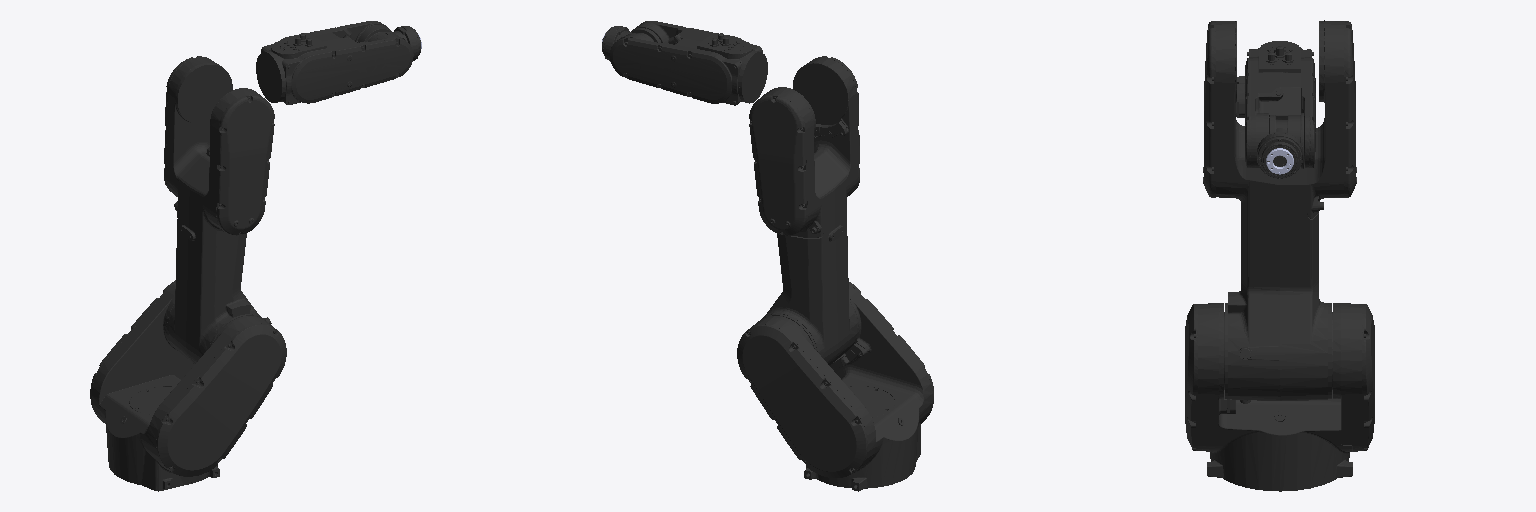
URDF robot description (IRB_1300_1150_URDF):
<?xml version="1.0" encoding="utf-8"?>
<!-- This URDF was automatically created by SolidWorks to URDF Exporter! Originally created by Stephen Brawner (brawner@gmail.com) 
     Commit Version: 1.6.0-4-g7f85cfe  Build Version: 1.6.7995.38578
     For more information, please see http://wiki.ros.org/sw_urdf_exporter -->
<robot
  name="IRB_1300_1150_URDF">
  <link
    name="Base_link">
    <inertial>
      <origin
        xyz="-0.0220103019410186 -0.000638393440676694 0.127601680674722"
        rpy="0 0 0" />
      <mass
        value="13.1816717182696" />
      <inertia
        ixx="0.111542050634734"
        ixy="-0.000419579506372939"
        ixz="-0.00293208386013336"
        iyy="0.128331849305678"
        iyz="-3.06924058365584E-05"
        izz="0.103993589315671" />
    </inertial>
    <visual>
      <origin
        xyz="0 0 0"
        rpy="0 0 0" />
      <geometry>
        <mesh
          filename="../meshes/Base_link.STL" />
      </geometry>
      <material
        name="">
        <color
          rgba="0.250980392156863 0.250980392156863 0.250980392156863 1" />
      </material>
    </visual>
    <collision>
      <origin
        xyz="0 0 0"
        rpy="0 0 0" />
      <geometry>
        <mesh
          filename="../meshes/Base_link.STL" />
      </geometry>
    </collision>
  </link>
  <link
    name="Link_1">
    <inertial>
      <origin
        xyz="0.0379140465011304 -0.00077346865336325 0.145882231183446"
        rpy="0 0 0" />
      <mass
        value="16.33253311" />
      <inertia
        ixx="0.174362024179828"
        ixy="0.0183368936461501"
        ixz="-0.0552544146231136"
        iyy="0.208069036216912"
        iyz="0.0360494323577949"
        izz="0.165549084912184" />
    </inertial>
    <visual>
      <origin
        xyz="0 0 0"
        rpy="0 0 0" />
      <geometry>
        <mesh
          filename="../meshes/Link_1.STL" />
      </geometry>
      <material
        name="">
        <color
          rgba="0.250980392156863 0.250980392156863 0.250980392156863 1" />
      </material>
    </visual>
    <collision>
      <origin
        xyz="0 0 0"
        rpy="0 0 0" />
      <geometry>
        <mesh
          filename="../meshes/Link_1.STL" />
      </geometry>
    </collision>
  </link>
  <joint
    name="Joint_1"
    type="revolute">
    <origin
      xyz="0 0 0.254"
      rpy="0 0 0" />
    <parent
      link="Base_link" />
    <child
      link="Link_1" />
    <axis
      xyz="0 0 1" />
    <limit
      lower="-3.1416"
      upper="3.1416"
      effort="1"
      velocity="1" />
  </joint>
  <link
    name="Link_2">
    <inertial>
      <origin
        xyz="-0.010943302471405 -0.00082345273693149 0.244958725841503"
        rpy="0 0 0" />
      <mass
        value="15.4405289883218" />
      <inertia
        ixx="0.454189406801351"
        ixy="0.000833807793902255"
        ixz="0.00519621446900202"
        iyy="0.446840533249867"
        iyz="0.0465559640262711"
        izz="0.0564311207928579" />
    </inertial>
    <visual>
      <origin
        xyz="0 0 0"
        rpy="0 0 0" />
      <geometry>
        <mesh
          filename="../meshes/Link_2.STL" />
      </geometry>
      <material
        name="">
        <color
          rgba="0.250980392156863 0.250980392156863 0.250980392156863 1" />
      </material>
    </visual>
    <collision>
      <origin
        xyz="0 0 0"
        rpy="0 0 0" />
      <geometry>
        <mesh
          filename="../meshes/Link_2.STL" />
      </geometry>
    </collision>
  </link>
  <joint
    name="Joint_2"
    type="revolute">
    <origin
      xyz="0.15 0 0.29"
      rpy="0 0 0" />
    <parent
      link="Link_1" />
    <child
      link="Link_2" />
    <axis
      xyz="0 1 0" />
    <limit
      lower="-1.6581"
      upper="2.7053"
      effort="1"
      velocity="1" />
  </joint>
  <link
    name="Link_3">
    <inertial>
      <origin
        xyz="0.00583162917002925 -0.00131958947797207 0.0114105778753493"
        rpy="0 0 0" />
      <mass
        value="4.41745625966426" />
      <inertia
        ixx="0.0147798858809225"
        ixy="-5.10577958981012E-05"
        ixz="-0.00147588390166233"
        iyy="0.0217907531368722"
        iyz="-0.000100030526636097"
        izz="0.0184719400306651" />
    </inertial>
    <visual>
      <origin
        xyz="0 0 0"
        rpy="0 0 0" />
      <geometry>
        <mesh
          filename="../meshes/Link_3.STL" />
      </geometry>
      <material
        name="">
        <color
          rgba="0.250980392156863 0.250980392156863 0.250980392156863 1" />
      </material>
    </visual>
    <collision>
      <origin
        xyz="0 0 0"
        rpy="0 0 0" />
      <geometry>
        <mesh
          filename="../meshes/Link_3.STL" />
      </geometry>
    </collision>
  </link>
  <joint
    name="Joint_3"
    type="revolute">
    <origin
      xyz="0 0 0.575"
      rpy="0 0 0" />
    <parent
      link="Link_2" />
    <child
      link="Link_3" />
    <axis
      xyz="0 1 0" />
    <limit
      lower="-3.6652"
      upper="1.1345"
      effort="1"
      velocity="1" />
  </joint>
  <link
    name="Link_4">
    <inertial>
      <origin
        xyz="0.140260635549701 -0.00136562554480562 0.00129646298090691"
        rpy="0 0 0" />
      <mass
        value="3.69431403174966" />
      <inertia
        ixx="0.00541702840267699"
        ixy="0.00158652277695888"
        ixz="8.51527882160909E-05"
        iyy="0.0298154185837735"
        iyz="-2.11291152168427E-05"
        izz="0.0280131785677657" />
    </inertial>
    <visual>
      <origin
        xyz="0 0 0"
        rpy="0 0 0" />
      <geometry>
        <mesh
          filename="../meshes/Link_4.STL" />
      </geometry>
      <material
        name="">
        <color
          rgba="0.250980392156863 0.250980392156863 0.250980392156863 1" />
      </material>
    </visual>
    <collision>
      <origin
        xyz="0 0 0"
        rpy="0 0 0" />
      <geometry>
        <mesh
          filename="../meshes/Link_4.STL" />
      </geometry>
    </collision>
  </link>
  <joint
    name="Joint_4"
    type="revolute">
    <origin
      xyz="0.128 0 0.04"
      rpy="0 0 0" />
    <parent
      link="Link_3" />
    <child
      link="Link_4" />
    <axis
      xyz="1 0 0" />
    <limit
      lower="-4.0143"
      upper="4.0143"
      effort="1"
      velocity="1" />
  </joint>
  <link
    name="Link_5">
    <inertial>
      <origin
        xyz="0.0204854339056125 0.00887681892988258 5.81633089893341E-05"
        rpy="0 0 0" />
      <mass
        value="0.585190237279786" />
      <inertia
        ixx="0.000493350438723821"
        ixy="6.25796891964945E-05"
        ixz="1.86941748612874E-06"
        iyy="0.000782731233621633"
        iyz="8.9714462780288E-08"
        izz="0.00072596758094608" />
    </inertial>
    <visual>
      <origin
        xyz="0 0 0"
        rpy="0 0 0" />
      <geometry>
        <mesh
          filename="../meshes/Link_5.STL" />
      </geometry>
      <material
        name="">
        <color
          rgba="0.250980392156863 0.250980392156863 0.250980392156863 1" />
      </material>
    </visual>
    <collision>
      <origin
        xyz="0 0 0"
        rpy="0 0 0" />
      <geometry>
        <mesh
          filename="../meshes/Link_5.STL" />
      </geometry>
    </collision>
  </link>
  <joint
    name="Joint_5"
    type="revolute">
    <origin
      xyz="0.297 0 0"
      rpy="0 0 0" />
    <parent
      link="Link_4" />
    <child
      link="Link_5" />
    <axis
      xyz="0 1 0" />
    <limit
      lower="-2.2689"
      upper="2.2689"
      effort="1"
      velocity="1" />
  </joint>
  <link
    name="Link_6">
    <inertial>
      <origin
        xyz="-7.71902908147659E-05 0.000141388062541212 -0.00303976538423312"
        rpy="0 0 0" />
      <mass
        value="0.00790032012561492" />
      <inertia
        ixx="1.51446478201562E-06"
        ixy="1.16947500504224E-08"
        ixz="2.42500450594497E-11"
        iyy="1.59968258334013E-06"
        iyz="-4.44183698628822E-11"
        izz="3.06775217763411E-06" />
    </inertial>
    <visual>
      <origin
        xyz="0 0 0"
        rpy="0 0 0" />
      <geometry>
        <mesh
          filename="../meshes/Link_6.STL" />
      </geometry>
      <material
        name="">
        <color
          rgba="0.792156862745098 0.819607843137255 0.933333333333333 1" />
      </material>
    </visual>
    <collision>
      <origin
        xyz="0 0 0"
        rpy="0 0 0" />
      <geometry>
        <mesh
          filename="../meshes/Link_6.STL" />
      </geometry>
    </collision>
  </link>
  <joint
    name="Joint_6"
    type="revolute">
    <origin
      xyz="0.09 0 0"
      rpy="0 1.5708 0" />
    <parent
      link="Link_5" />
    <child
      link="Link_6" />
    <axis
      xyz="0 0 1" />
    <limit
      lower="-4.2237"
      upper="4.2237"
      effort="1"
      velocity="1" />
  </joint>
  <link name="ee_link" />
  <joint
    name="ee_joint"
    type="fixed">
    <parent link="Link_6" />
    <child link="ee_link" />
    <origin xyz="0.0998237 0.123033 0.0828027" rpy="0.001199 0.000599 2.782547" />
  </joint>
</robot>

--- Facts derived from the render (not from the file) ---
3 views of the same robot in one strip: view 1: azimuth 30°, elevation 25°; view 2: azimuth 150°, elevation 25°; view 3: azimuth 270°, elevation 25° (orthographic).
Model IRB_1300_1150_URDF with 8 links and 7 joints (6 revolute, 1 fixed), rooted at Base_link, posed every joint at zero.
Links seen in each view (by area): view 1: Link_1, Link_2, Link_4, Link_5; view 2: Link_1, Link_2, Link_4, Link_5; view 3: Link_2, Link_1, Link_4, Link_5.
Link boxes in pixels (x1,y1,x2,y2): Link_1: (90, 280, 286, 491); Link_2: (164, 56, 274, 363); Link_4: (256, 21, 413, 104); Link_5: (355, 23, 420, 60); Link_1: (737, 282, 933, 491); Link_2: (749, 56, 859, 365); Link_4: (610, 21, 767, 105); Link_5: (602, 26, 660, 61); Link_2: (1203, 20, 1356, 403); Link_1: (1185, 303, 1374, 491); Link_4: (1245, 41, 1315, 167); Link_5: (1257, 113, 1303, 178).
Bounding box of the posed robot: 0.7957 × 0.34 × 0.9898 m (x, y, z).
Meshes: 7 distinct files referenced, 5 mesh visuals loaded (5 binary STL); not drawn: 2 (reference not matched to a file when rendering).
